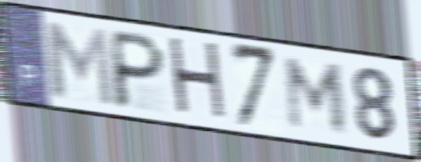7: (230, 40, 279, 131)
8: (351, 65, 399, 143)
H: (165, 34, 231, 126)
M: (41, 17, 117, 109), (284, 54, 349, 136)
P: (111, 27, 168, 112)
